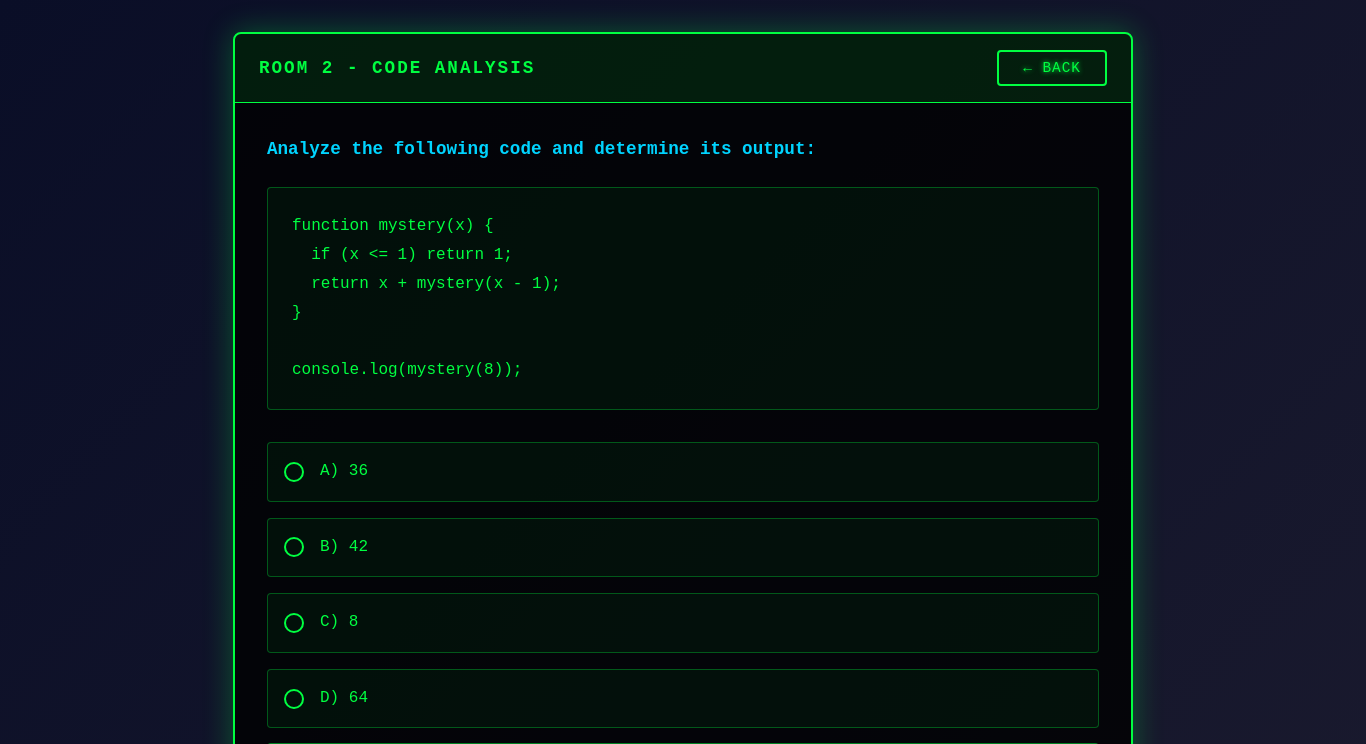
Test: Room2 - Programming Puzzle › shows error message for incorrect answer
Note: Select an incorrect answer
Click the radio button labelled "A) 36" at coordinates (294, 472), box [284, 462, 304, 482]
(page scrolled)
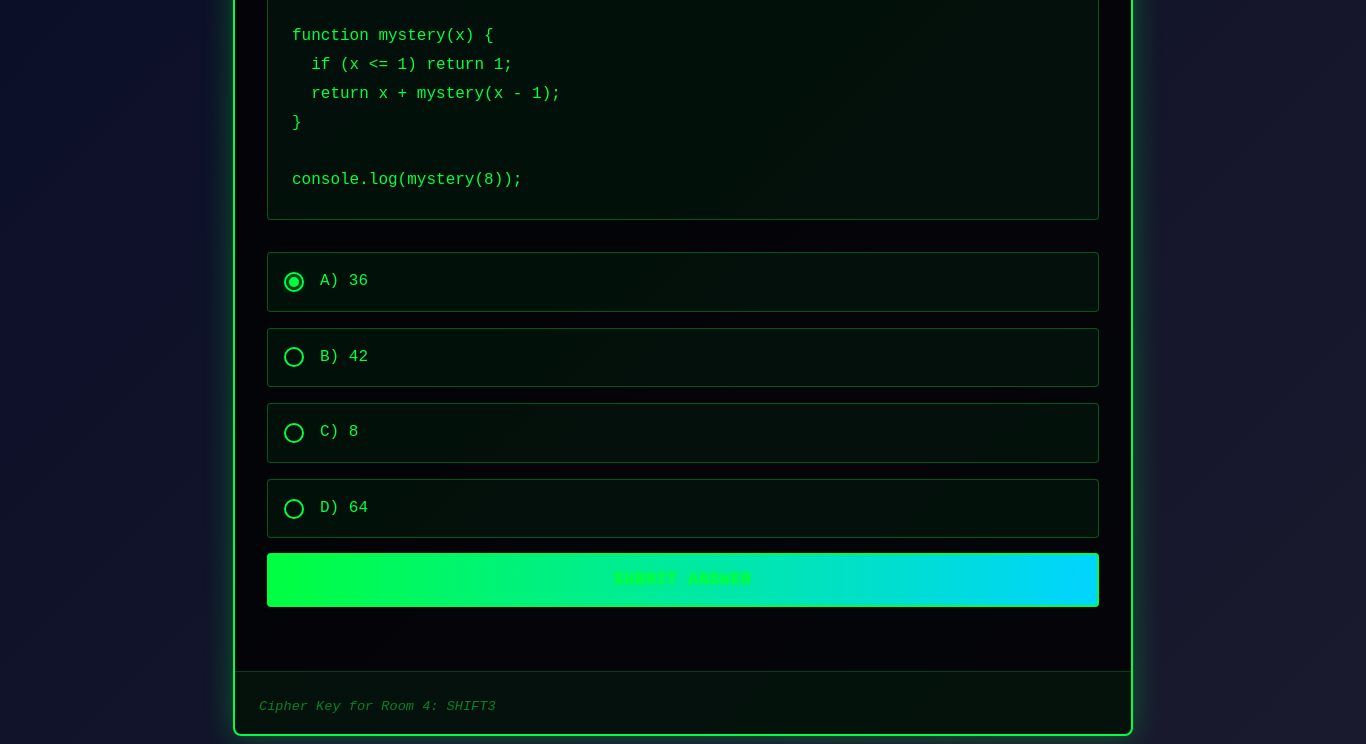
Note: Submit the form
Click the button "SUBMIT ANSWER" at coordinates (683, 580), box [267, 553, 1099, 607]
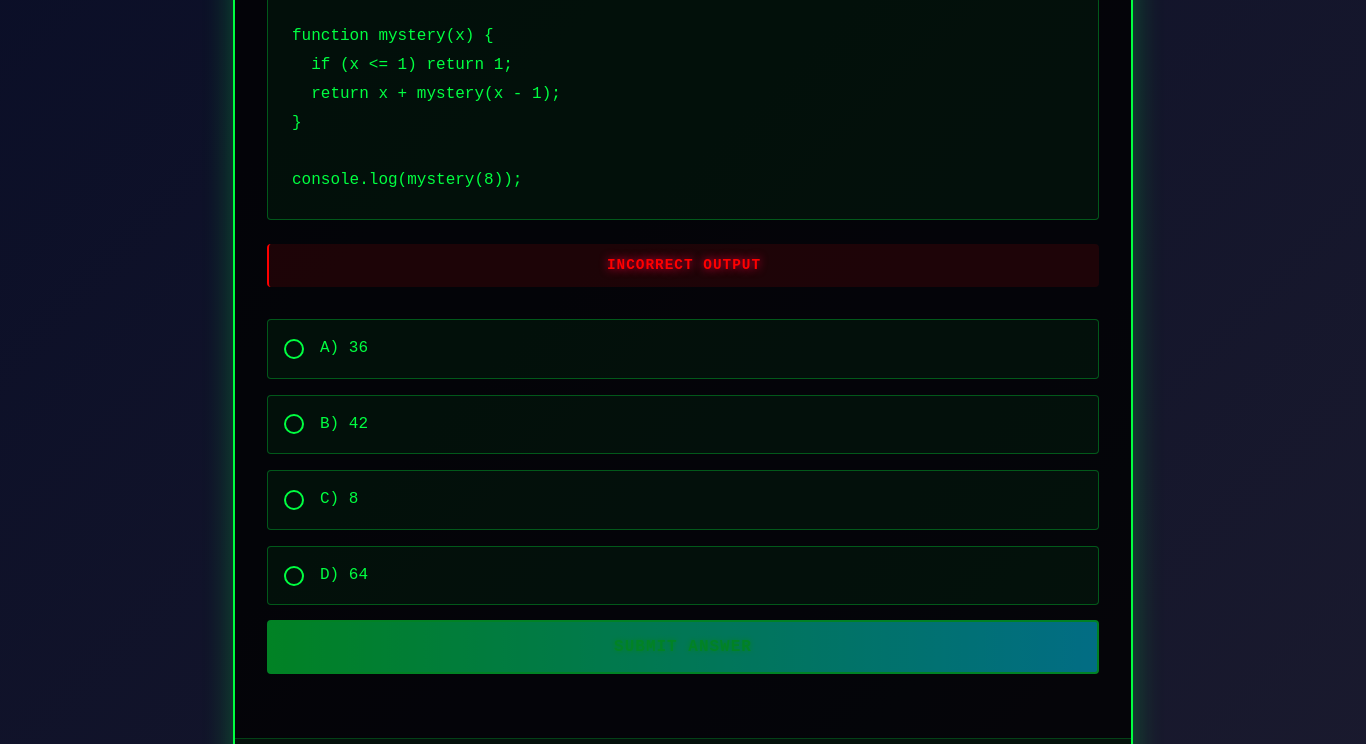
Check: the text "INCORRECT OUTPUT" is shown, box [267, 244, 1099, 287]
